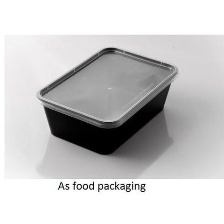plastic_box: (28, 40, 182, 158)
